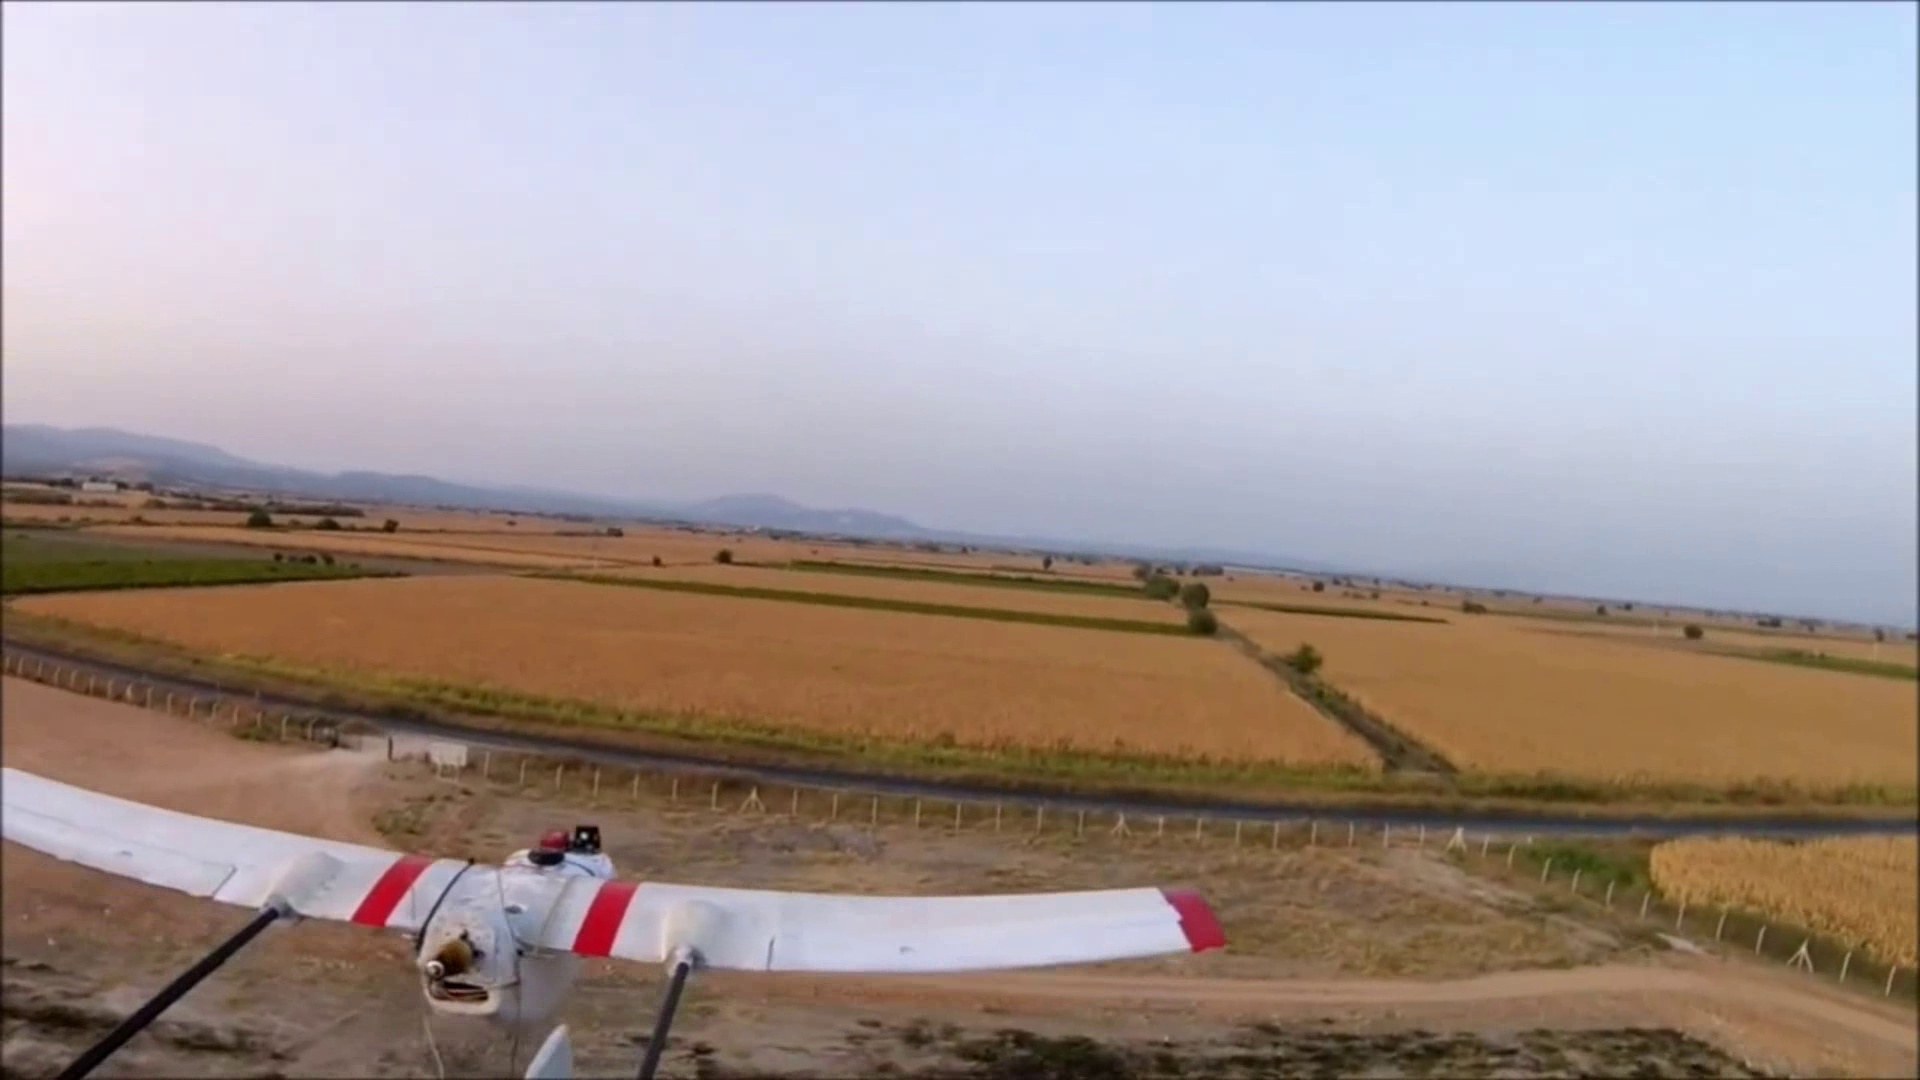airplane: (7, 756, 1226, 1048)
